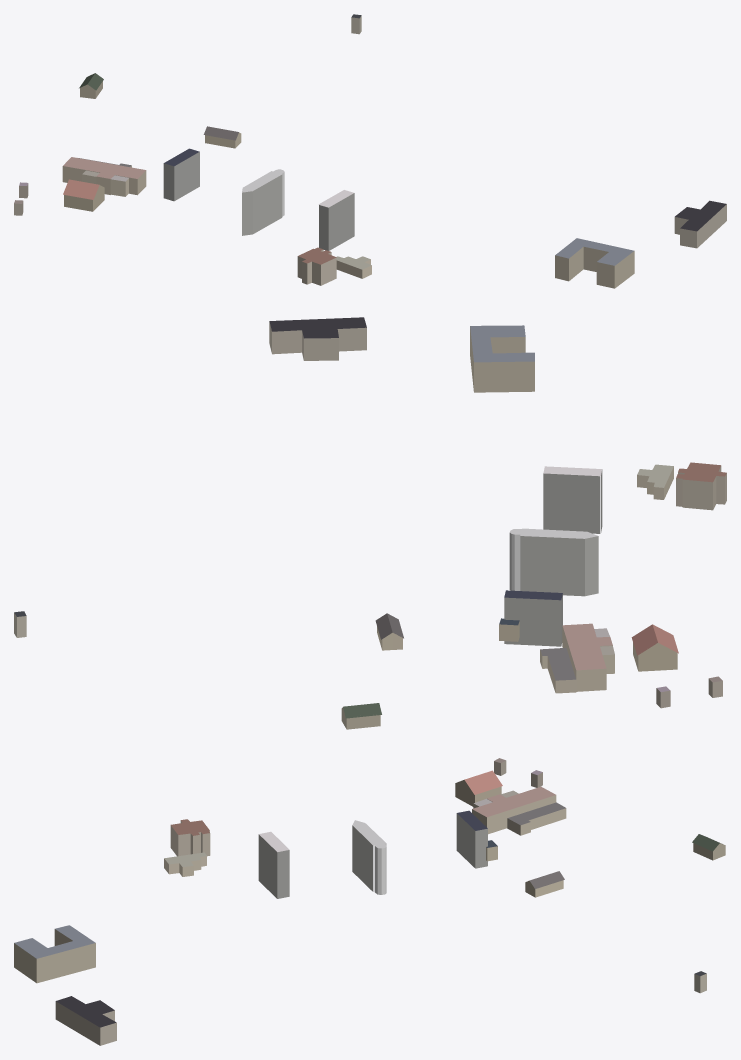
The picture shows the model from 3 angles, top to bottom: view 1: azimuth 30°, elevation 25°; view 2: azimuth 150°, elevation 25°; view 3: azimuth 270°, elevation 25°; orthographic projection. The views are drawn at different scales.
Parts seen in each view (by area): view 1: tuile; view 2: tuile; view 3: tuile.
Part boxes in pixels (left/top/right/bottom): tuile: left=14, top=14, right=726, bottom=288; tuile: left=14, top=317, right=726, bottom=729; tuile: left=14, top=758, right=725, bottom=1045.
Size of the model in its own units: 227 by 20.9 by 247.
